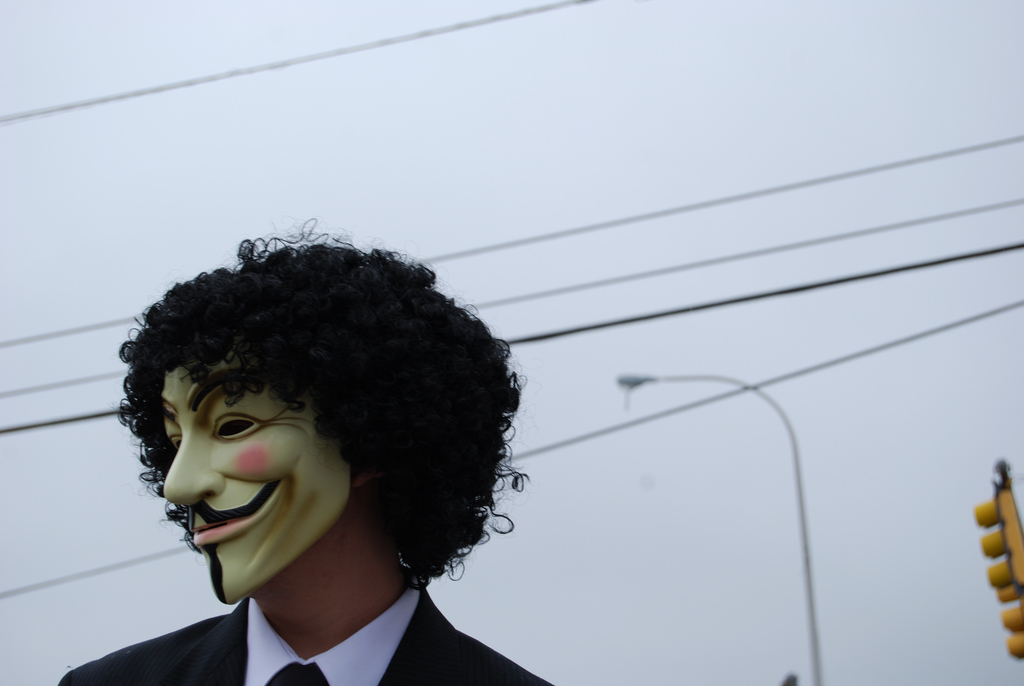Person: (56, 218, 557, 685)
